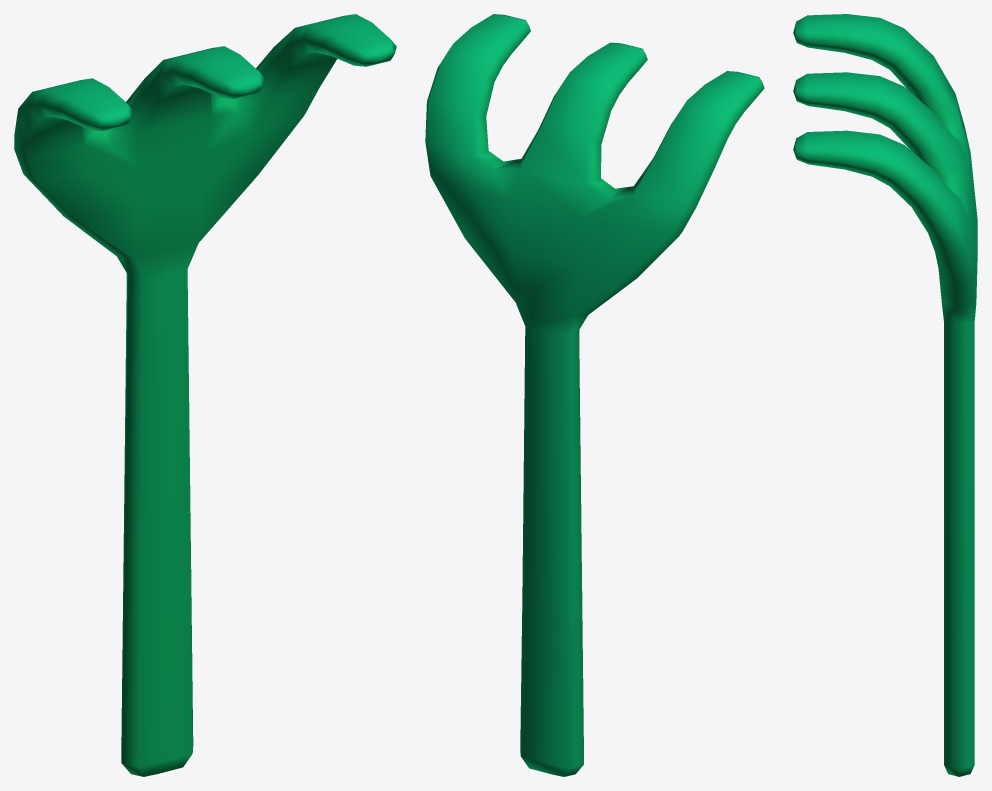
The model's file is baseline-7.glb.
3 renders of one model, left to right at view 1: azimuth 30°, elevation 25°; view 2: azimuth 150°, elevation 25°; view 3: azimuth 270°, elevation 25°, orthographic. The views are drawn at different scales.
Visible parts, largest first — view 1: baby_rake_atlas_0; view 2: baby_rake_atlas_0; view 3: baby_rake_atlas_0.
Boxes of the visible parts, box(x1,y1,x2,y2) form: baby_rake_atlas_0: box(14, 14, 396, 776); baby_rake_atlas_0: box(425, 14, 764, 776); baby_rake_atlas_0: box(793, 14, 977, 776).
Bounding box in the file's own units: 0.2418 × 0.5364 × 0.1301.
1 material, 1 textured.
